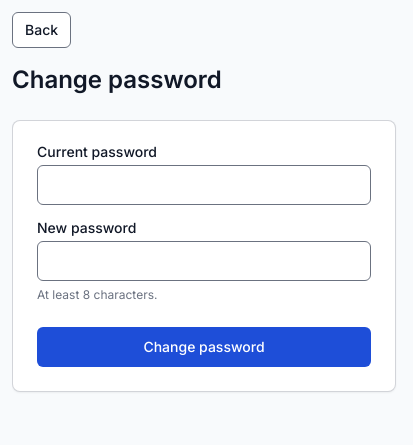
Scenario: AccountChangePasswordPage › wrong current password shows the API's error message, not a silent no-op
Type "wrong-password" into the password field labelled "Current password" at (204, 185), box [37, 165, 371, 205]
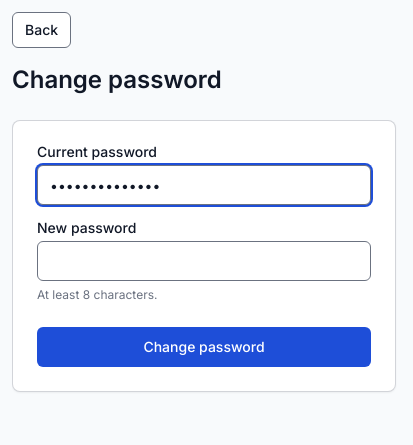
Type "BrandNewPassw0rd!" into the password field labelled "New password" at (204, 261), box [37, 241, 371, 281]
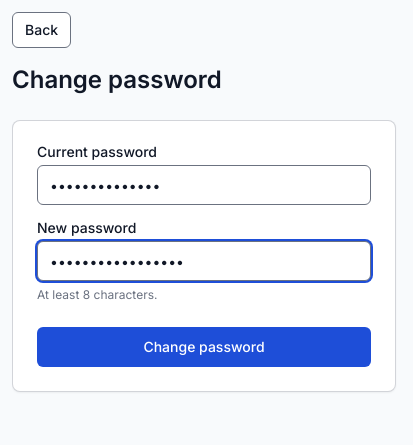
Click the button "Change password" at (204, 347), box [37, 327, 371, 367]
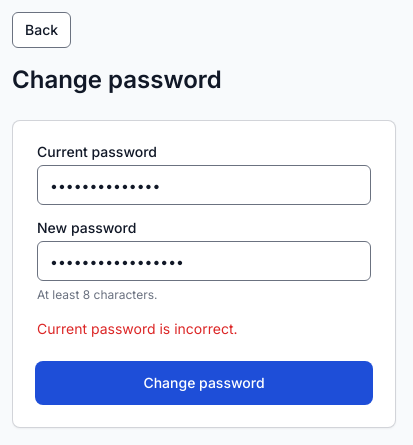
Expected: the text "Current password is incorrect." is shown, [37, 320, 238, 337]
